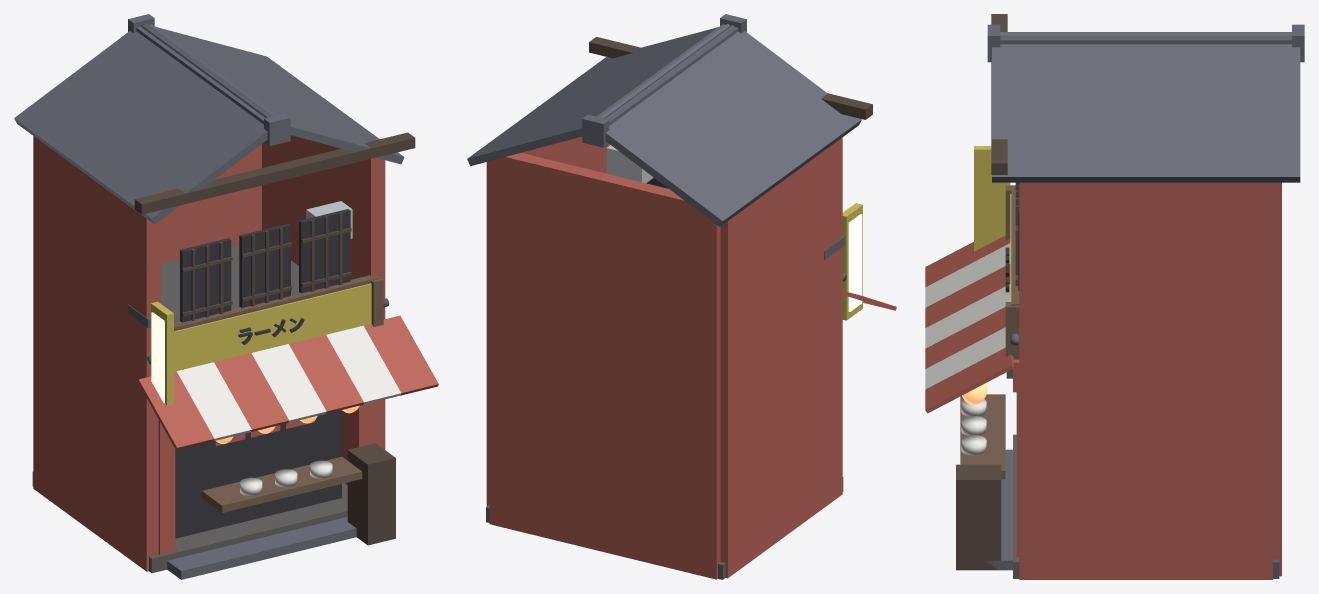
File: prop_shop_ramen.glb
3 renders of one model, left to right at view 1: azimuth 30°, elevation 25°; view 2: azimuth 150°, elevation 25°; view 3: azimuth 270°, elevation 25°, orthographic. The views are drawn at different scales.
Parts seen in each view (by area): view 1: shop_ramen; view 2: shop_ramen; view 3: shop_ramen.
Boxes of the visible parts, <box> form: shop_ramen: <box>14,14,438,579</box>; shop_ramen: <box>467,14,896,579</box>; shop_ramen: <box>925,14,1304,579</box>.
Size of the model in its own units: 3.9 by 5.9 by 4.19.
